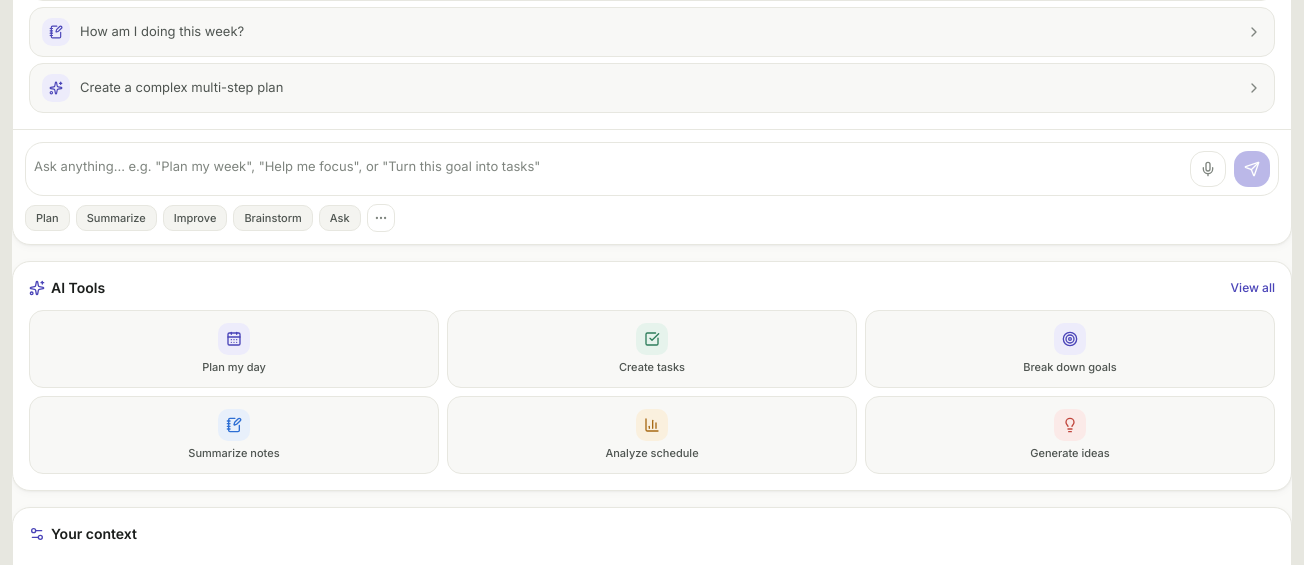
quick prompts › runs the action chips
(page scrolled)
Step 1. Click the button with test id "ai-chip-summarize" → (116, 218), box [76, 205, 157, 231]
(page scrolled)
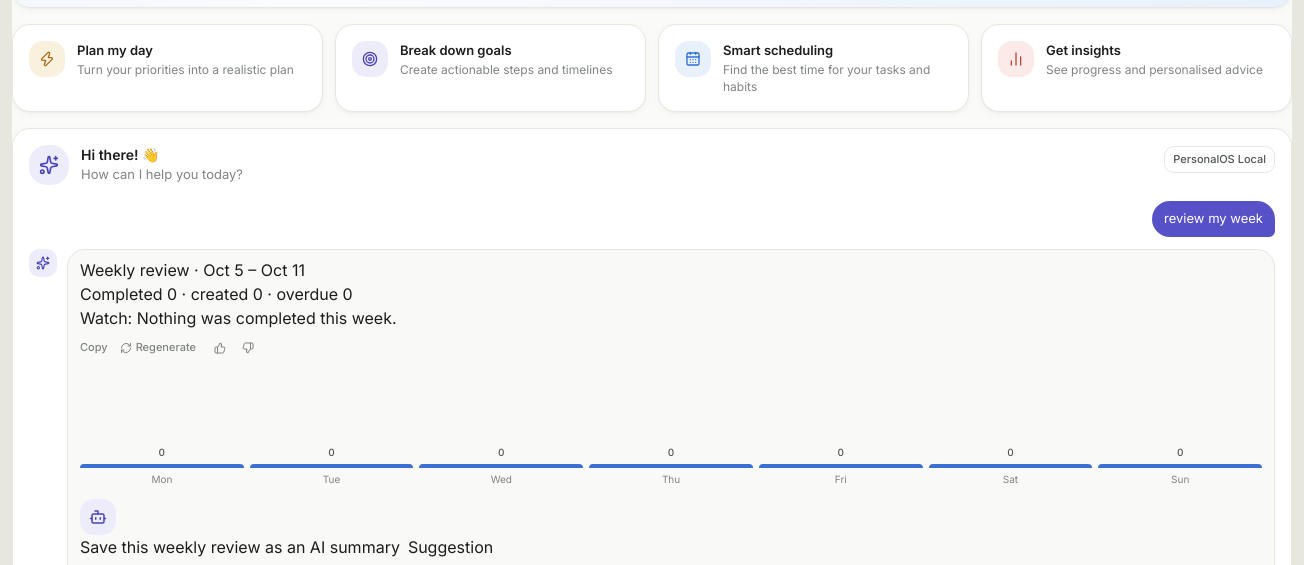
Check: the text with test id "ai-user-message" reads "review my week", box [1164, 210, 1263, 226]
